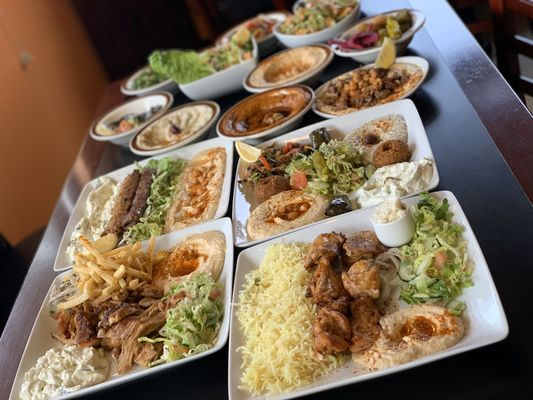sushi: (227, 190, 502, 400), (13, 218, 235, 400), (311, 58, 430, 120), (218, 86, 316, 142), (129, 99, 220, 158), (327, 7, 426, 60), (90, 93, 175, 144), (244, 44, 334, 92), (273, 0, 360, 49)
